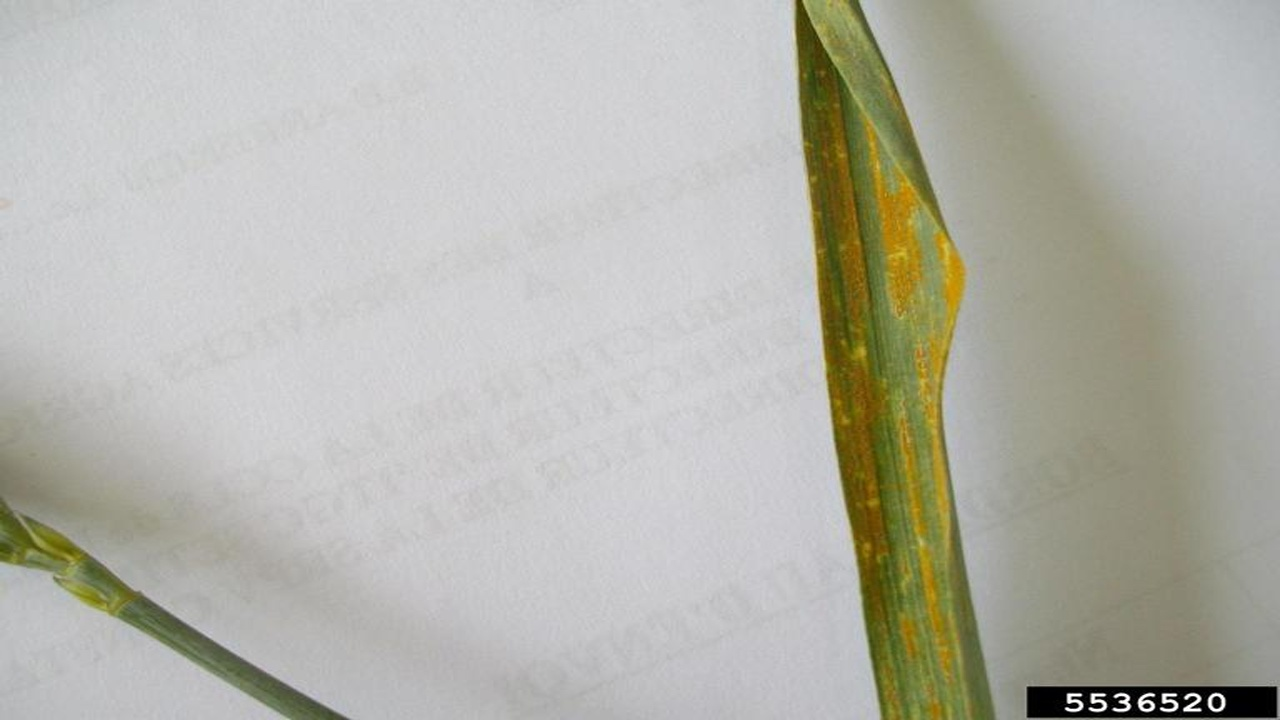stripe_rust: (790, 2, 1008, 720)
